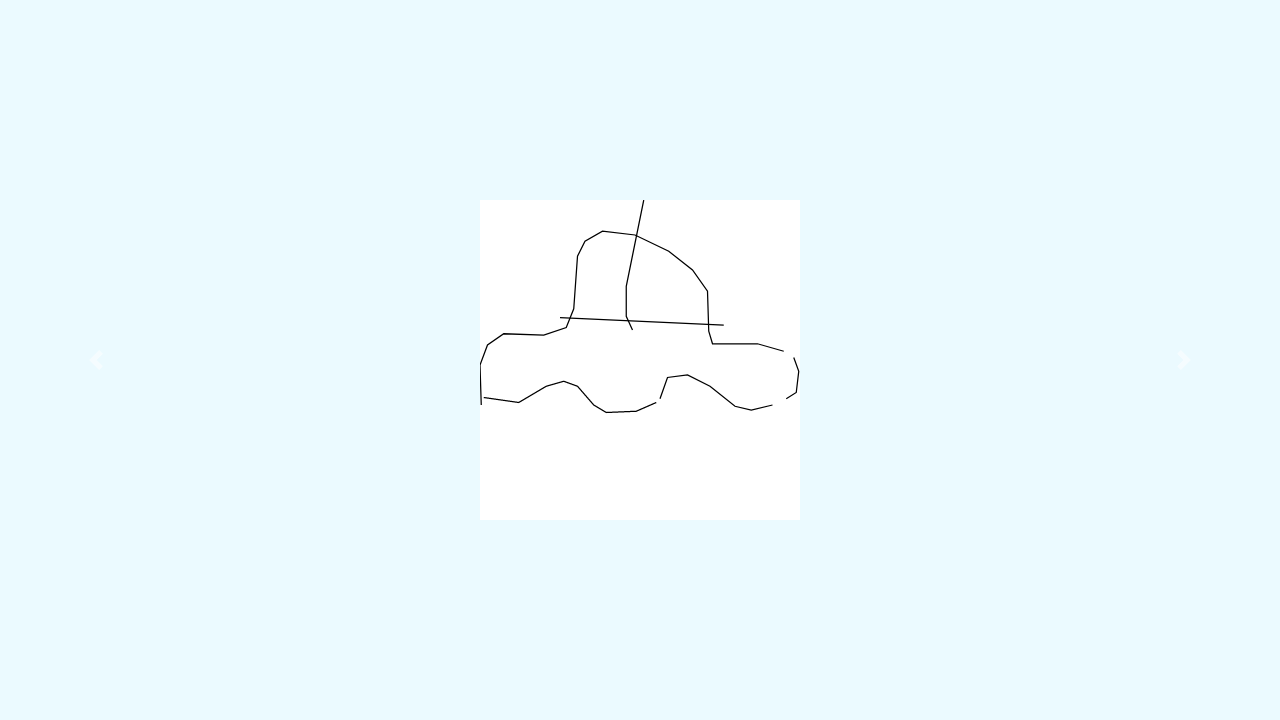car: (474, 194, 803, 425)
